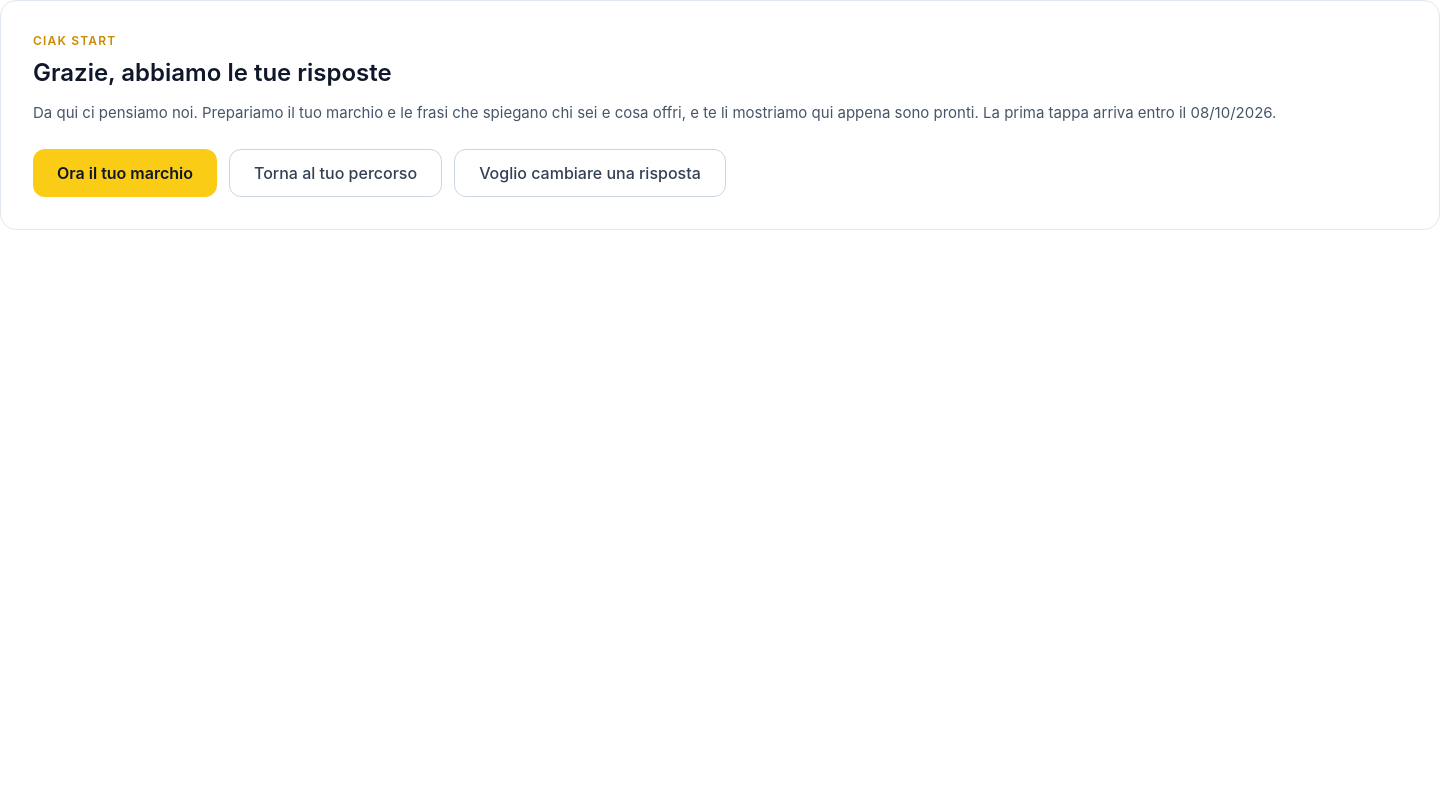
chi ha gia' inviato vede il ringraziamento e puo' cambiare una risposta
Check: the element with test id "domande-inviate" is shown, box x1=0 y1=0 x2=1439 y2=230
Click the button "Voglio cambiare una risposta": [590, 173] box x1=454 y1=149 x2=726 y2=197
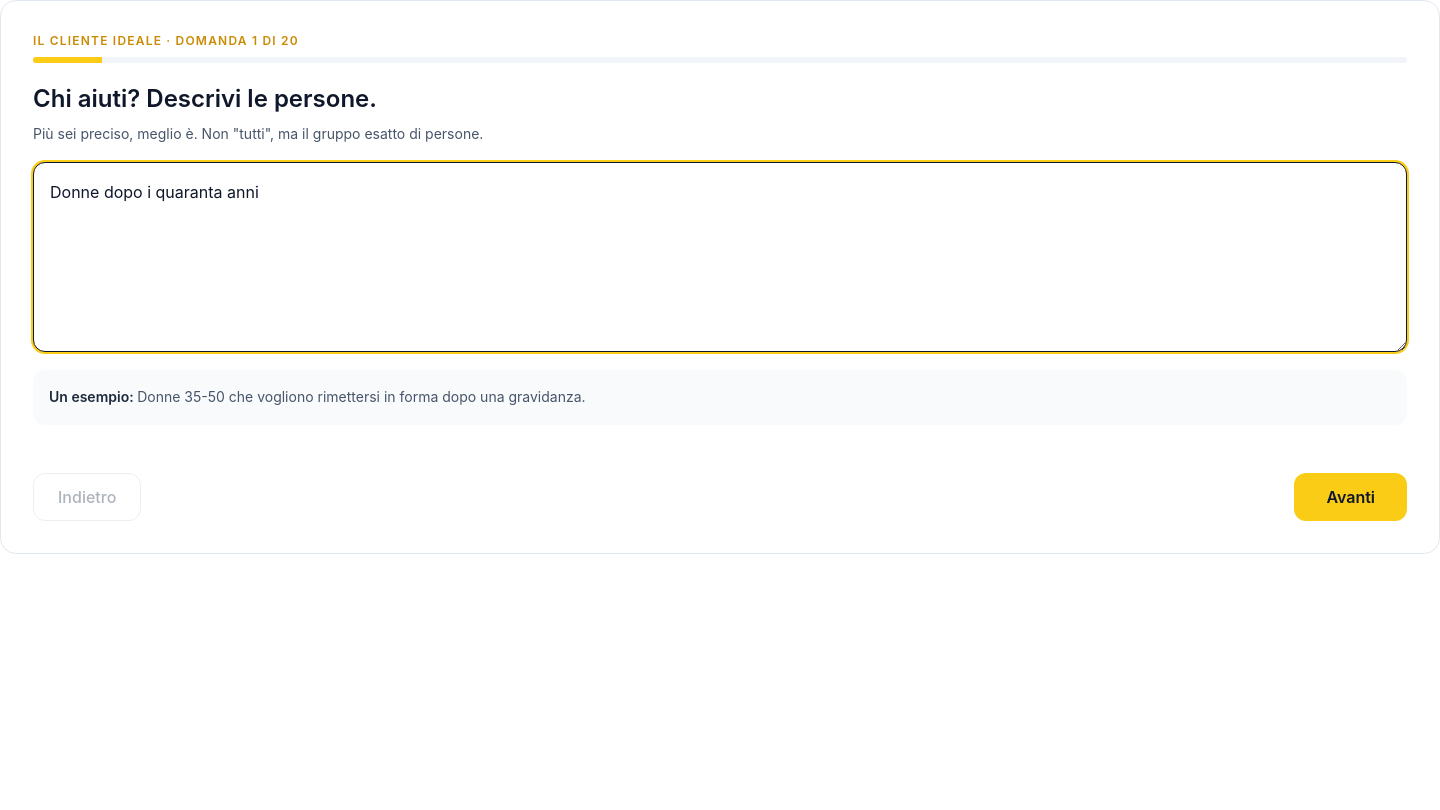
Check: the heading "Chi aiuti? Descrivi le persone." is shown, box x1=33 y1=84 x2=377 y2=113
